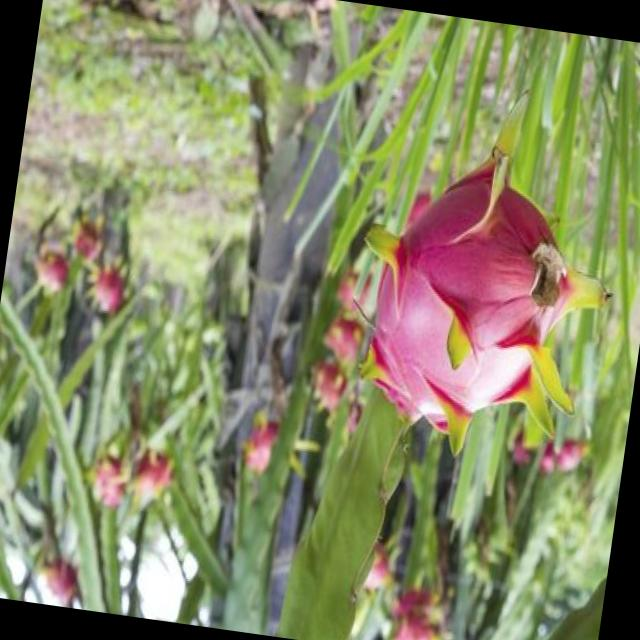Thanh Long: (344, 114, 624, 466), (294, 357, 362, 427), (386, 588, 452, 640), (323, 266, 380, 314), (129, 449, 176, 504), (36, 556, 84, 609), (90, 458, 132, 514), (314, 314, 362, 362), (240, 418, 278, 478), (66, 215, 107, 269), (87, 266, 128, 318), (32, 250, 72, 298)
